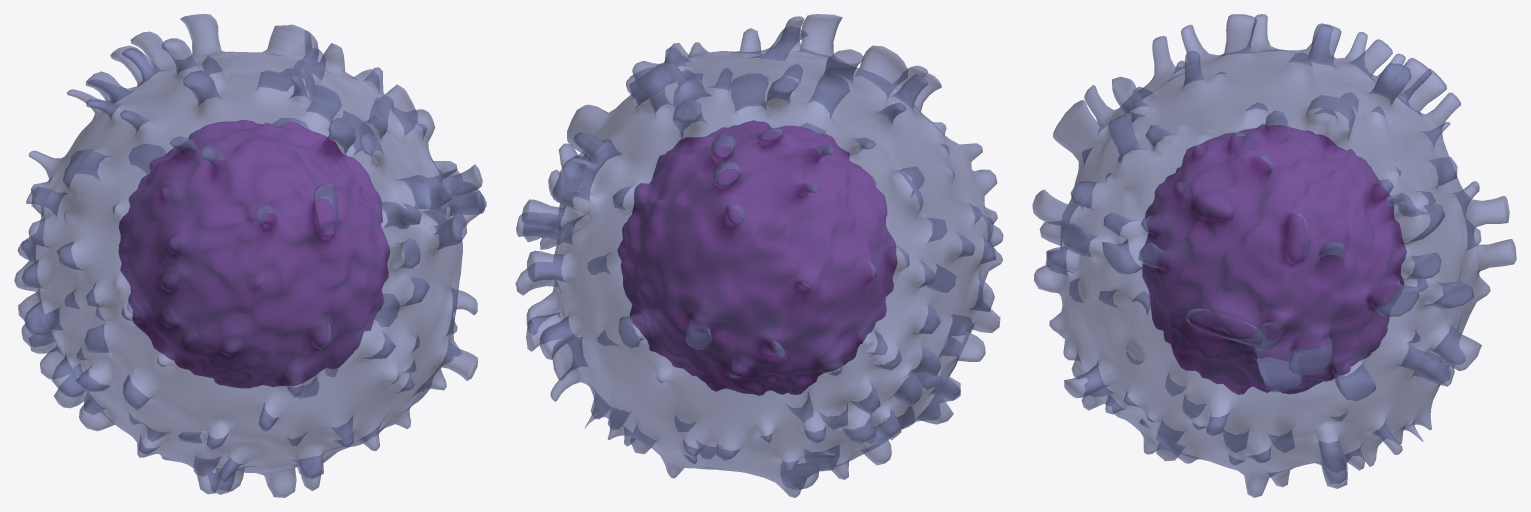
File: lymphocyte.glb
3 renders of one model, left to right at view 1: azimuth 30°, elevation 25°; view 2: azimuth 150°, elevation 25°; view 3: azimuth 270°, elevation 25°, orthographic.
Parts seen in each view (by area): view 1: pCube20, pCube21; view 2: pCube20, pCube21; view 3: pCube20, pCube21.
Part boxes in pixels (x1=…): pCube20: x1=14, y1=14, x2=486, y2=497; pCube21: x1=118, y1=120, x2=390, y2=388; pCube20: x1=515, y1=14, x2=1003, y2=497; pCube21: x1=617, y1=120, x2=897, y2=395; pCube20: x1=1032, y1=14, x2=1516, y2=497; pCube21: x1=1141, y1=124, x2=1406, y2=394.
Bounding box in the file's own units: 0.0697 × 0.0684 × 0.0713.
